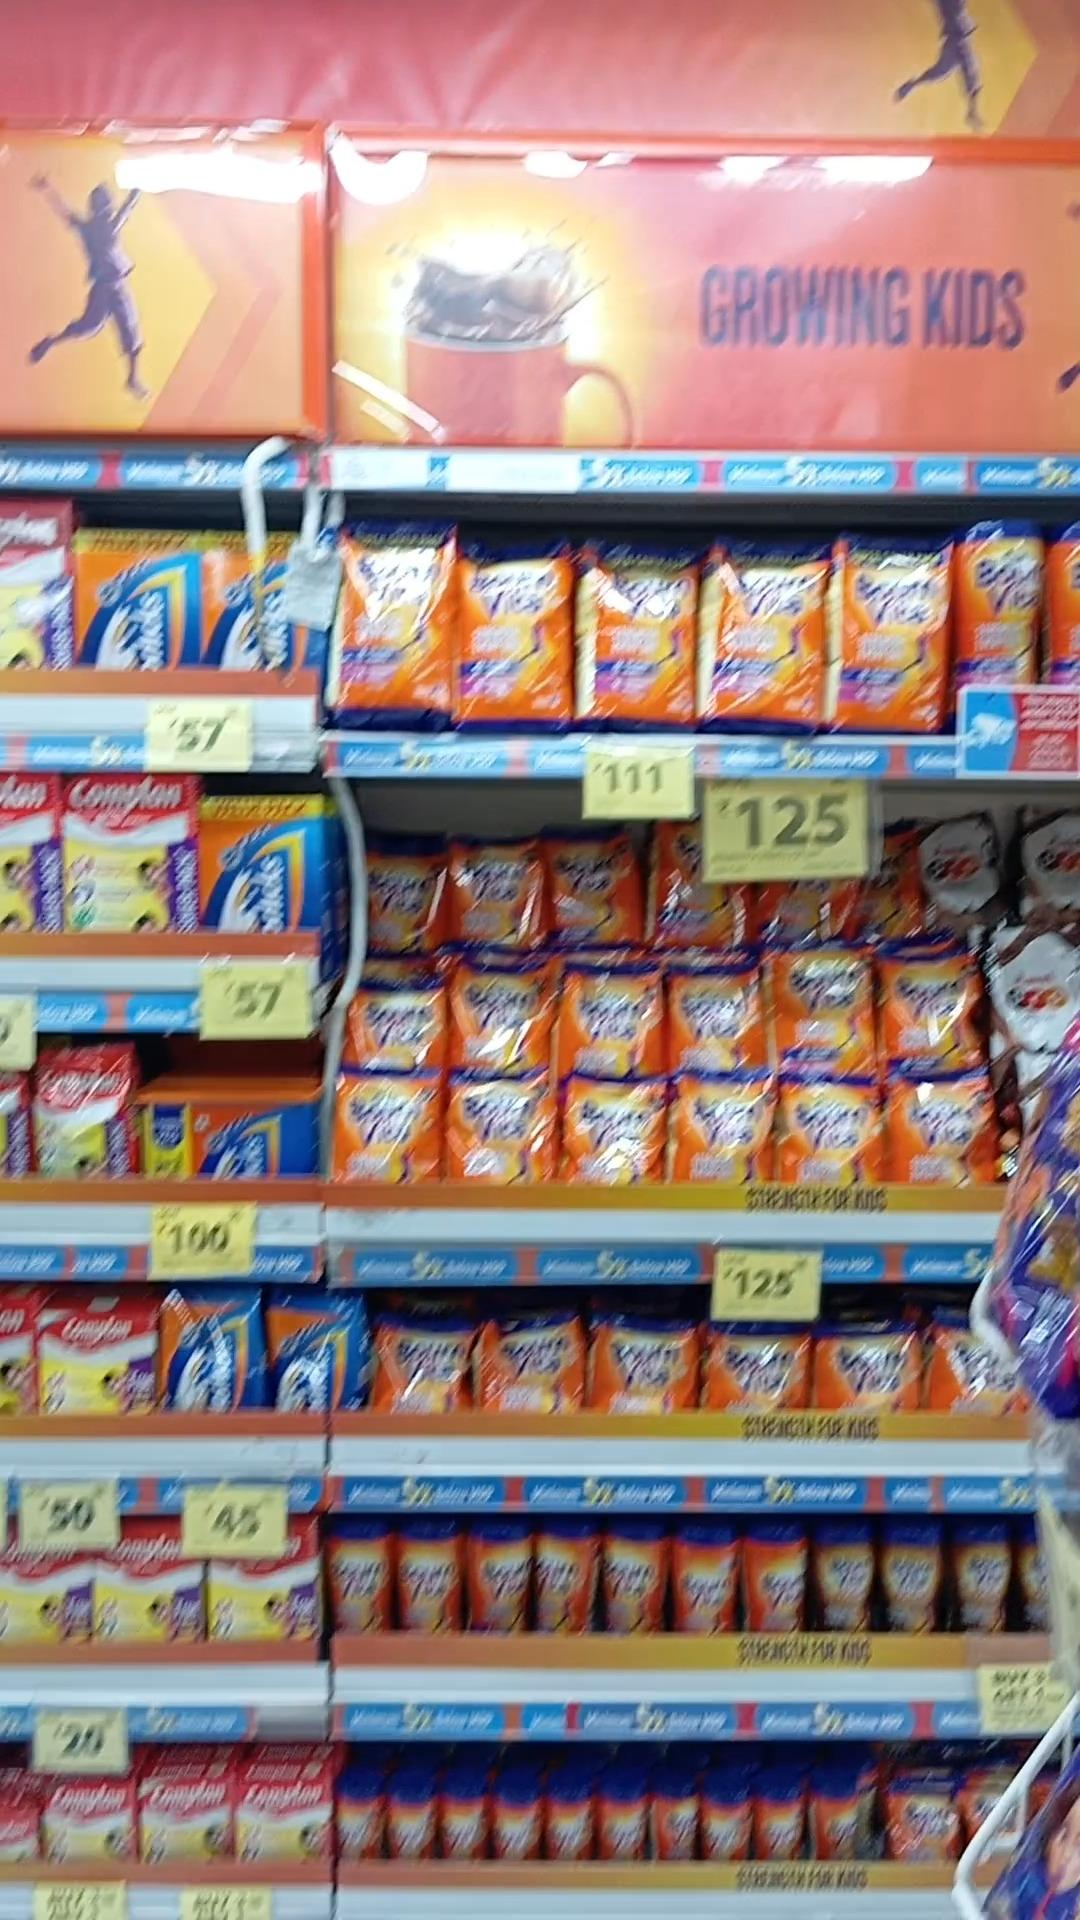BOURN_VITA_1_KG_JAR: (959, 520, 1047, 694)
BOURN_VITA_1_KG_POUCH: (700, 537, 828, 731), (336, 516, 448, 733), (837, 530, 948, 737), (454, 542, 567, 733), (589, 542, 696, 732)
BOURN_VITA_200_G_JAR: (754, 1778, 808, 1862), (389, 1771, 436, 1863), (597, 1779, 650, 1861), (653, 1782, 700, 1870), (816, 1771, 862, 1861), (545, 1778, 591, 1867), (705, 1780, 746, 1879), (446, 1774, 491, 1863), (334, 1784, 382, 1861), (497, 1778, 538, 1865)
BOURN_VITA_500_G_JAR: (667, 1516, 737, 1635), (464, 1515, 537, 1627), (744, 1516, 807, 1638), (393, 1515, 455, 1638), (323, 1518, 386, 1634), (539, 1518, 592, 1648), (604, 1516, 661, 1633)
BOURN_VITA_500_G_POUCH: (812, 1324, 926, 1420), (704, 1319, 800, 1422), (599, 1316, 694, 1420), (479, 1319, 579, 1416), (376, 1316, 472, 1412)
BOURN_VITA_750_G_POUCH: (783, 942, 882, 1075), (444, 1065, 550, 1188), (335, 1060, 433, 1188), (890, 1072, 997, 1185), (889, 956, 989, 1072), (549, 829, 646, 947), (452, 831, 545, 953), (785, 1075, 880, 1193), (674, 1071, 770, 1183), (568, 1069, 659, 1185), (674, 967, 765, 1073), (572, 967, 662, 1071), (456, 965, 550, 1064), (364, 844, 439, 959), (351, 976, 448, 1060)
BOURN_VITA_75_G_POUCH: (891, 1779, 960, 1869)
BOURN_VITA_FIVE_STAR_MAGIC_500_G_JAR: (878, 1515, 939, 1636), (819, 1519, 873, 1639), (956, 1518, 1007, 1635)
COMPLAN_RC_POUCH_700_GMS_12: (37, 1046, 131, 1183)
HORLICK_CLASSIC_MALT_500_G_PACK: (198, 794, 320, 936), (78, 534, 194, 673), (203, 530, 311, 676)
HORLICK_CLASSIC_MALT_750_G_POUCH: (161, 1294, 257, 1418), (269, 1292, 361, 1418)
